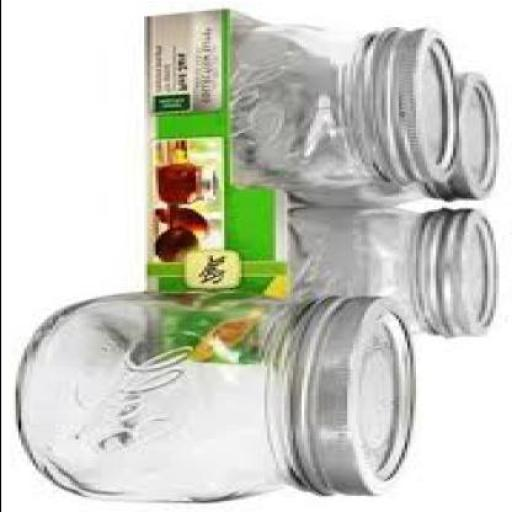cardboard: (152, 188, 286, 366), (148, 11, 234, 190)
glass: (17, 294, 309, 502), (232, 26, 394, 189), (286, 206, 432, 337), (290, 186, 434, 208)
metal: (298, 301, 416, 495), (360, 30, 461, 190), (417, 212, 501, 341), (429, 77, 498, 202)
